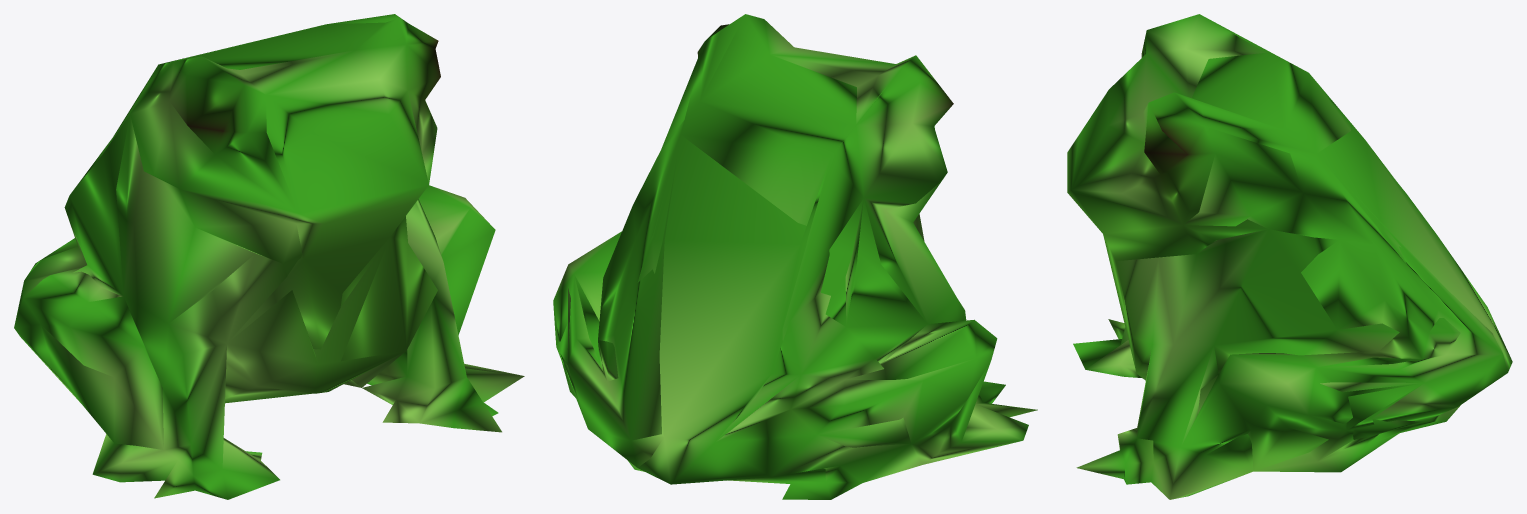
The model's file is gen3d-frog-lod1.glb.
The picture shows the model from 3 angles, left to right: view 1: azimuth 30°, elevation 25°; view 2: azimuth 150°, elevation 25°; view 3: azimuth 270°, elevation 25°; orthographic projection. The views are drawn at different scales.
Visible parts, largest first — view 1: part_0; view 2: part_0; view 3: part_0.
Boxes of the visible parts, left/top/right/bottom form: part_0: left=14, top=14, right=524, bottom=499; part_0: left=553, top=14, right=1037, bottom=499; part_0: left=1067, top=14, right=1512, bottom=499.
Size of the model in its own units: 1.15 by 0.9795 by 1.07.
